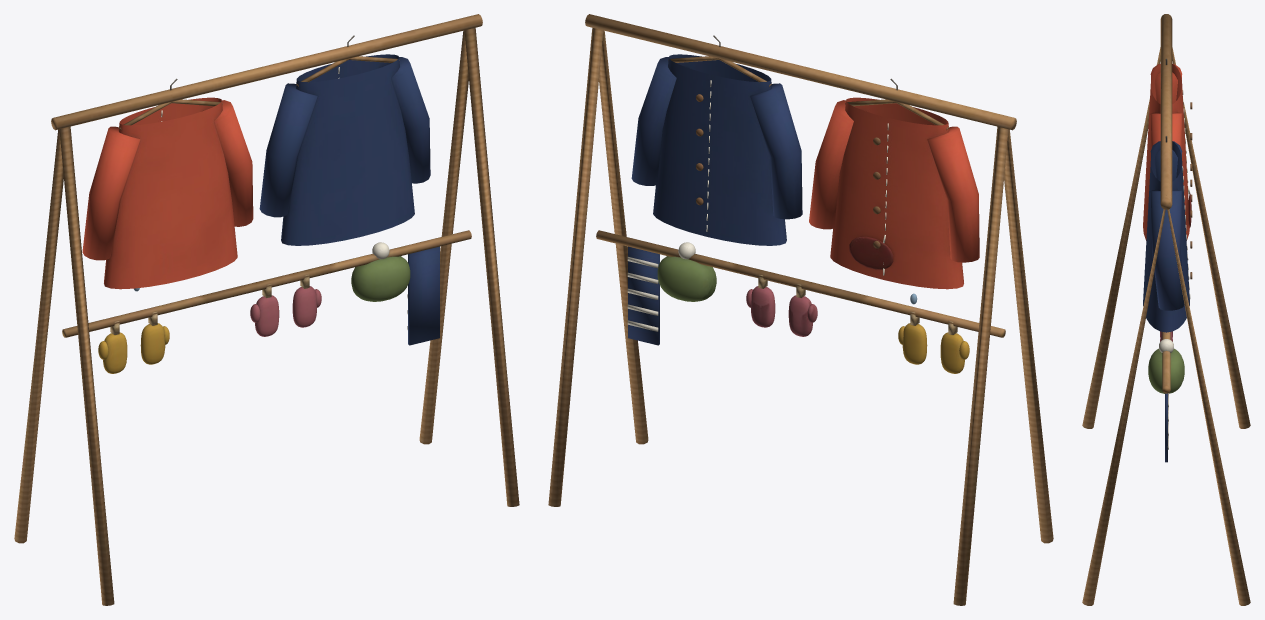
File: drying_rack.glb
3 views of the same model, side by side, from view 1: azimuth 30°, elevation 25°; view 2: azimuth 150°, elevation 25°; view 3: azimuth 270°, elevation 25° (orthographic). The views are drawn at different scales.
Visible parts, largest first — view 1: drying_rack_wood, drying_rack_felt_indigo, drying_rack_felt_red, drying_rack_felt_moss, drying_rack_felt_rose, drying_rack_felt_mustard; view 2: drying_rack_wood, drying_rack_felt_indigo, drying_rack_felt_red, drying_rack_felt_moss, drying_rack_felt_rose, drying_rack_felt_mustard, drying_rack_felt_wet, drying_rack_felt_ivory; view 3: drying_rack_wood, drying_rack_felt_indigo, drying_rack_felt_red, drying_rack_felt_moss.
Part boxes in pixels (x1=…): drying_rack_wood: x1=14, y1=14, x2=519, y2=605; drying_rack_felt_indigo: x1=259, y1=54, x2=439, y2=345; drying_rack_felt_red: x1=82, y1=97, x2=253, y2=289; drying_rack_felt_moss: x1=351, y1=256, x2=410, y2=301; drying_rack_felt_rose: x1=250, y1=286, x2=321, y2=336; drying_rack_felt_mustard: x1=98, y1=323, x2=169, y2=373; drying_rack_wood: x1=548, y1=14, x2=1053, y2=605; drying_rack_felt_indigo: x1=628, y1=54, x2=802, y2=345; drying_rack_felt_red: x1=809, y1=97, x2=979, y2=289; drying_rack_felt_moss: x1=657, y1=256, x2=716, y2=301; drying_rack_felt_rose: x1=746, y1=286, x2=817, y2=336; drying_rack_felt_mustard: x1=898, y1=323, x2=969, y2=373; drying_rack_felt_wet: x1=849, y1=236, x2=893, y2=269; drying_rack_felt_ivory: x1=627, y1=242, x2=695, y2=331; drying_rack_wood: x1=1082, y1=14, x2=1250, y2=605; drying_rack_felt_indigo: x1=1143, y1=141, x2=1189, y2=462; drying_rack_felt_red: x1=1143, y1=63, x2=1189, y2=240; drying_rack_felt_moss: x1=1148, y1=348, x2=1184, y2=393.
Size of the model in its own units: 3.36 by 3.53 by 1.29.
13 materials, 11 textured.
